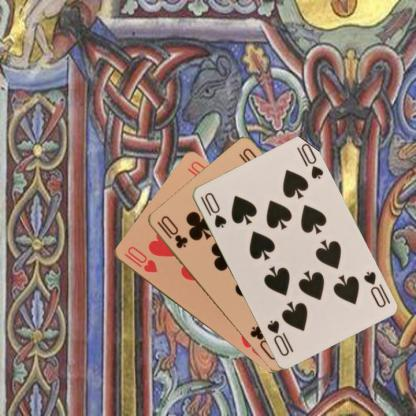10c: (154, 212, 189, 250)
10h: (121, 244, 158, 274)
10s: (197, 190, 228, 230), (361, 268, 387, 309)
